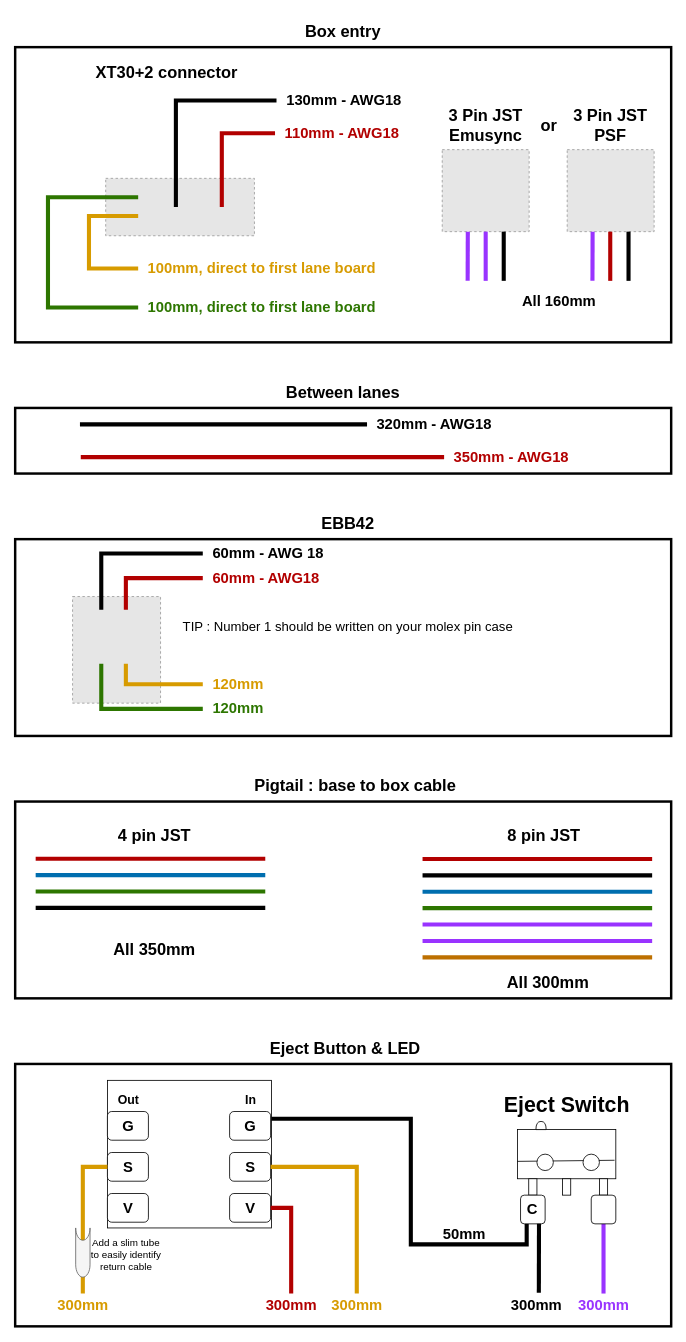
This 686x1342 diagram has some shape labels left out. Grey dashed boxes stand in for pictures. Each missing label, with the box of its shape:
LED: (107, 1080, 271, 1228)
NC: (590, 1194, 616, 1224)
